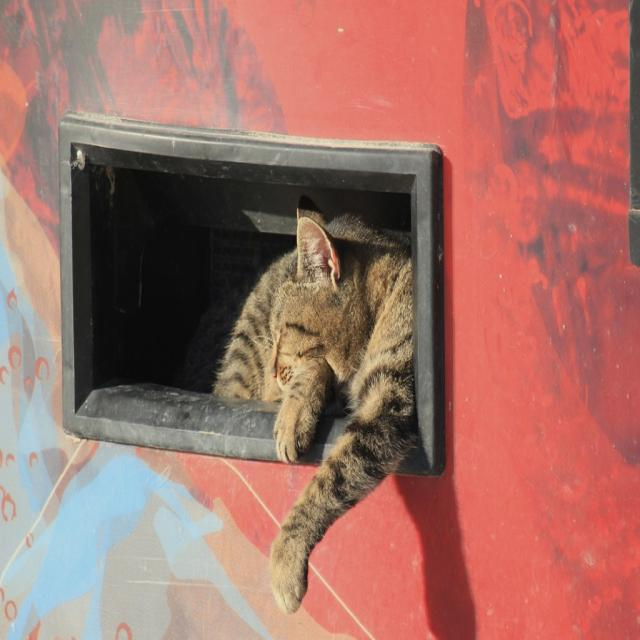Cat: (209, 196, 414, 616)
